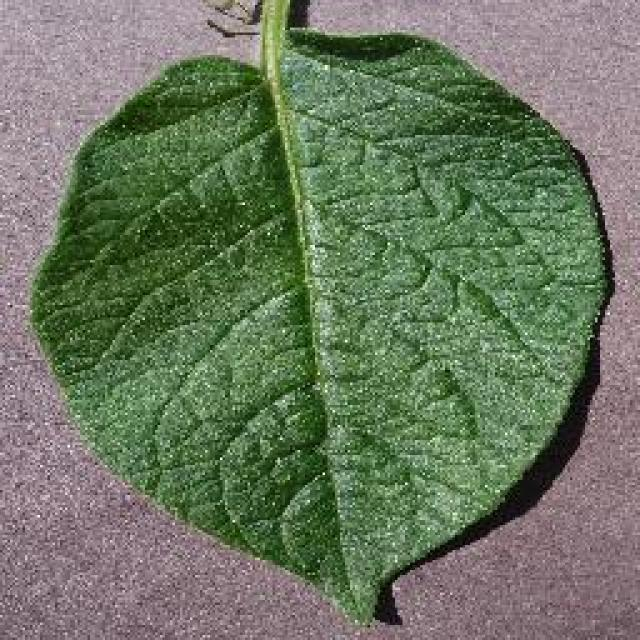Potato___healthy: (22, 0, 612, 624)
